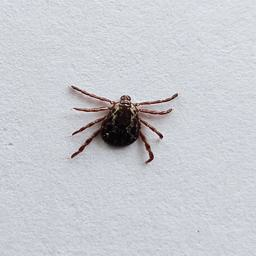Dermacentor variabilis: (68, 78, 180, 164)
